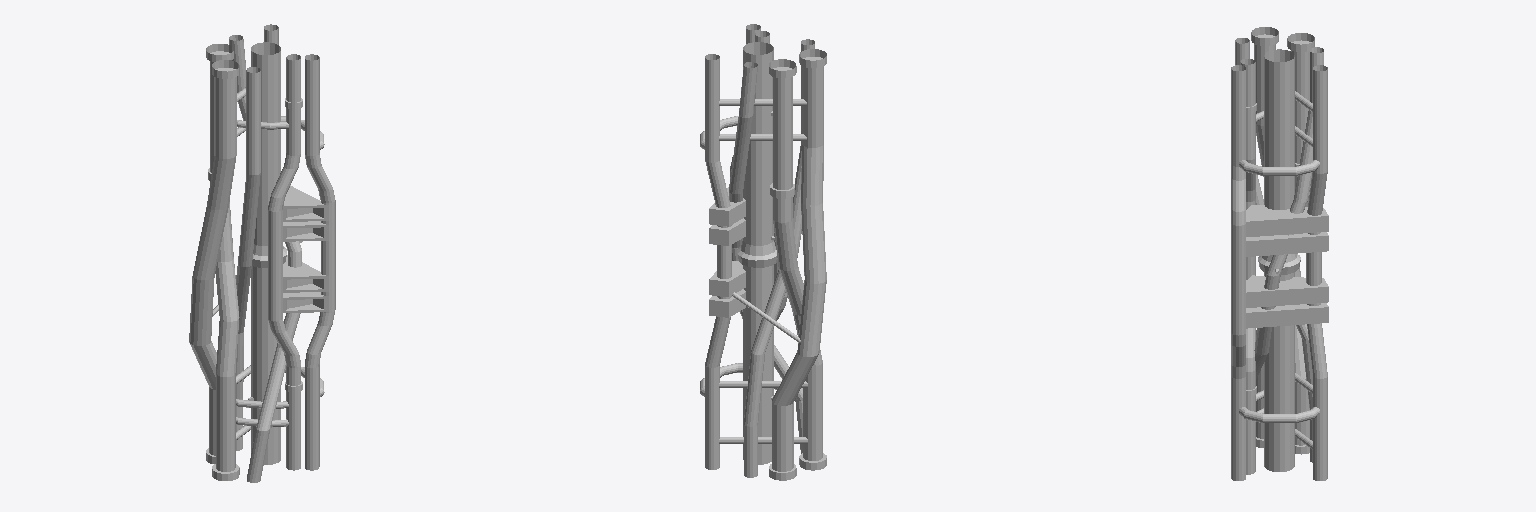
File: ThePipe.obj
The picture shows the model from 3 angles: view 1: azimuth 30°, elevation 25°; view 2: azimuth 150°, elevation 25°; view 3: azimuth 270°, elevation 25°; orthographic projection.
Visible parts, largest first — view 1: (null); view 2: (null); view 3: (null).
Part boxes in pixels (left/top/right/bottom): (null): left=189, top=24, right=335, bottom=482; (null): left=700, top=24, right=826, bottom=480; (null): left=1231, top=27, right=1328, bottom=480.
Size of the model in its own units: 78.19 by 256 by 55.37.